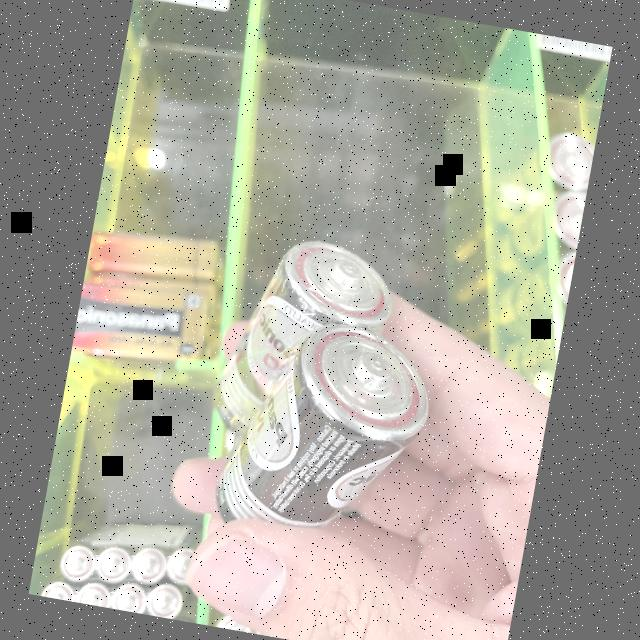battery: (201, 313, 436, 564), (198, 213, 397, 450)
